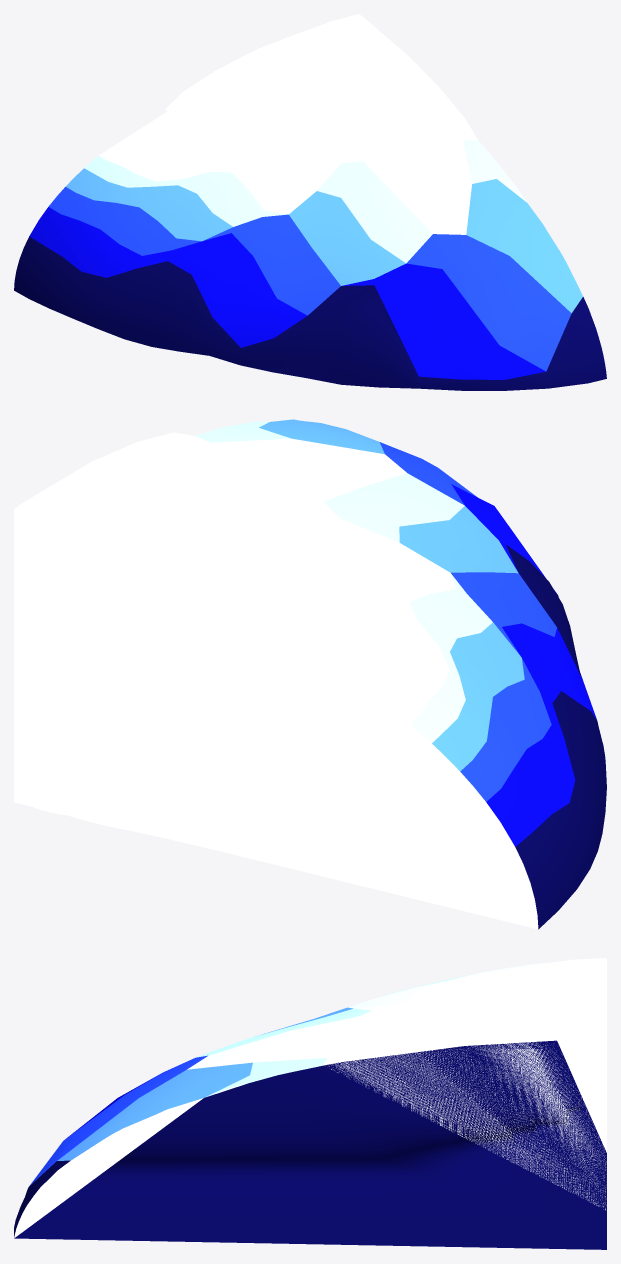
The model's file is shot_megacannon_b117.glb.
The picture shows the model from 3 angles, top to bottom: view 1: azimuth 30°, elevation 25°; view 2: azimuth 150°, elevation 25°; view 3: azimuth 270°, elevation 25°; orthographic projection. The views are drawn at different scales.
Parts seen in each view (by area): view 1: megacannon_blast_blue_b117, megacannon_blast_core_blue_b117; view 2: megacannon_blast_blue_b117, megacannon_blast_core_blue_b117; view 3: megacannon_blast_blue_b117, megacannon_blast_core_blue_b117.
Part boxes in pixels (x1,y1,x2,y2): megacannon_blast_blue_b117: (14, 111, 606, 390); megacannon_blast_core_blue_b117: (165, 14, 477, 155); megacannon_blast_blue_b117: (14, 419, 606, 929); megacannon_blast_core_blue_b117: (14, 432, 343, 756); megacannon_blast_blue_b117: (14, 962, 606, 1249); megacannon_blast_core_blue_b117: (322, 958, 606, 1210).
Size of the model in its own units: 11.06 by 5.93 by 13.76.
